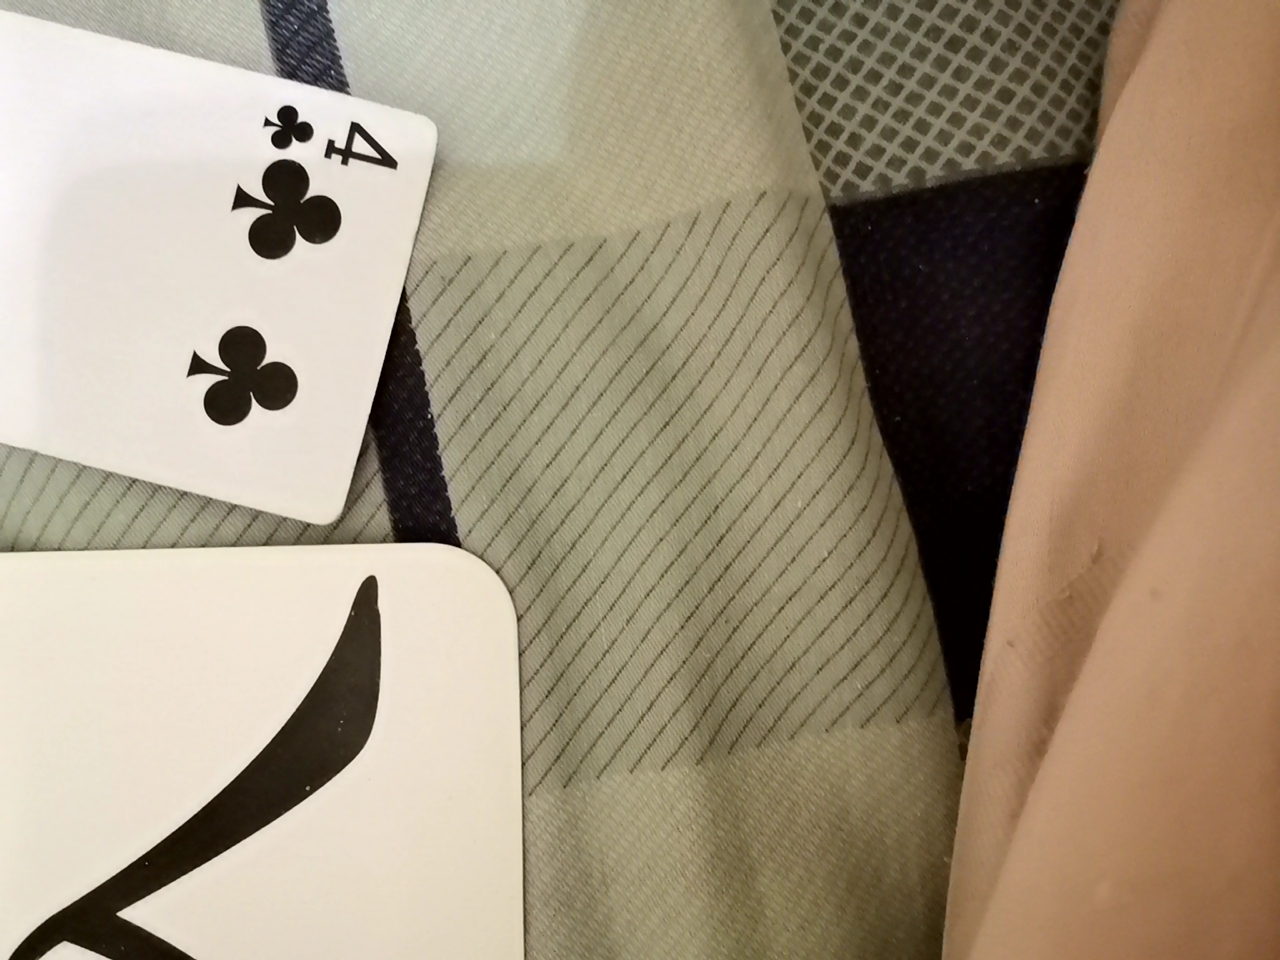mh 4: (1, 12, 423, 529)
